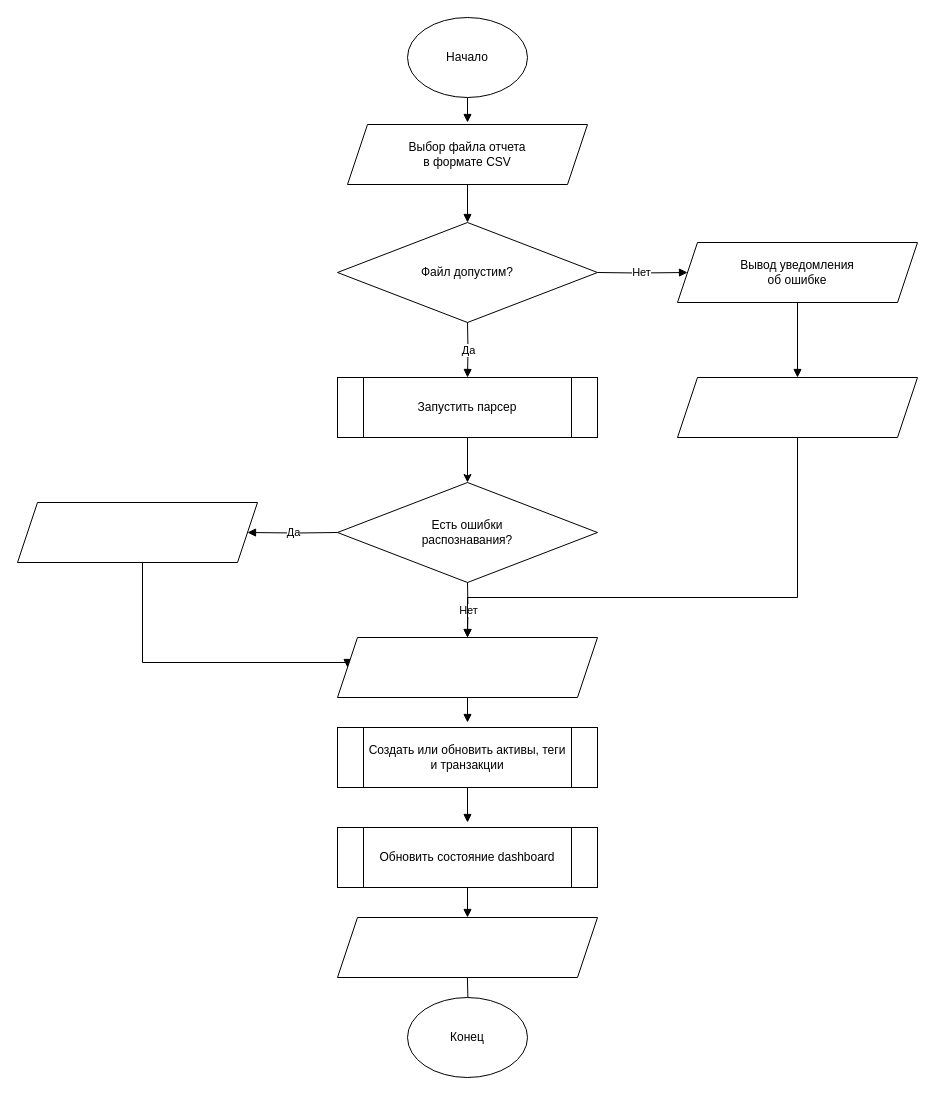
This 935x1095 diagram has some shape labels left out. Each missing label, with the box of its shape:
Вручную ввести транзакции: (676, 376, 918, 438)
Вручную откорректировать распознанные строки: (16, 502, 258, 562)
Подтвердить сохранение: (336, 636, 598, 698)
Уведомление об успехе: (336, 916, 598, 978)
